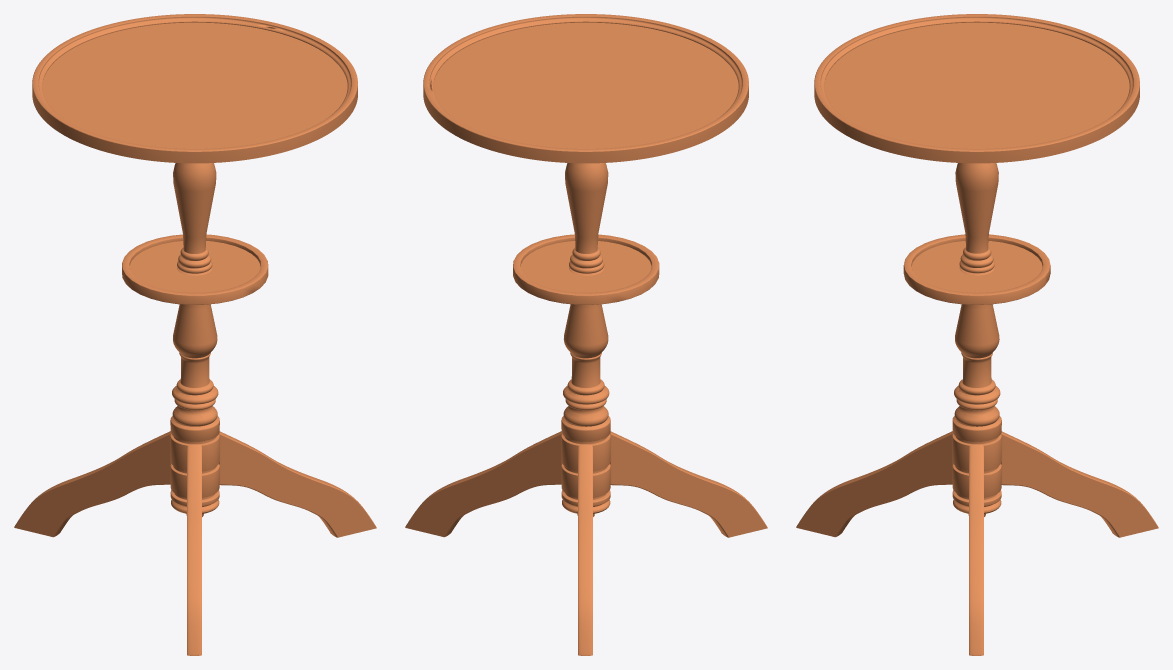
File: table_small.fbx
The picture shows the model from 3 angles, left to right: view 1: azimuth 30°, elevation 25°; view 2: azimuth 150°, elevation 25°; view 3: azimuth 270°, elevation 25°; orthographic projection.
Parts seen in each view (by area): view 1: Cube; view 2: Cube; view 3: Cube.
Part boxes in pixels (<box>): Cube: <box>14,14,376,655</box>; Cube: <box>405,14,767,655</box>; Cube: <box>796,14,1158,655</box>.
Bounding box in the file's own units: 57.45 × 83.55 × 56.43.
